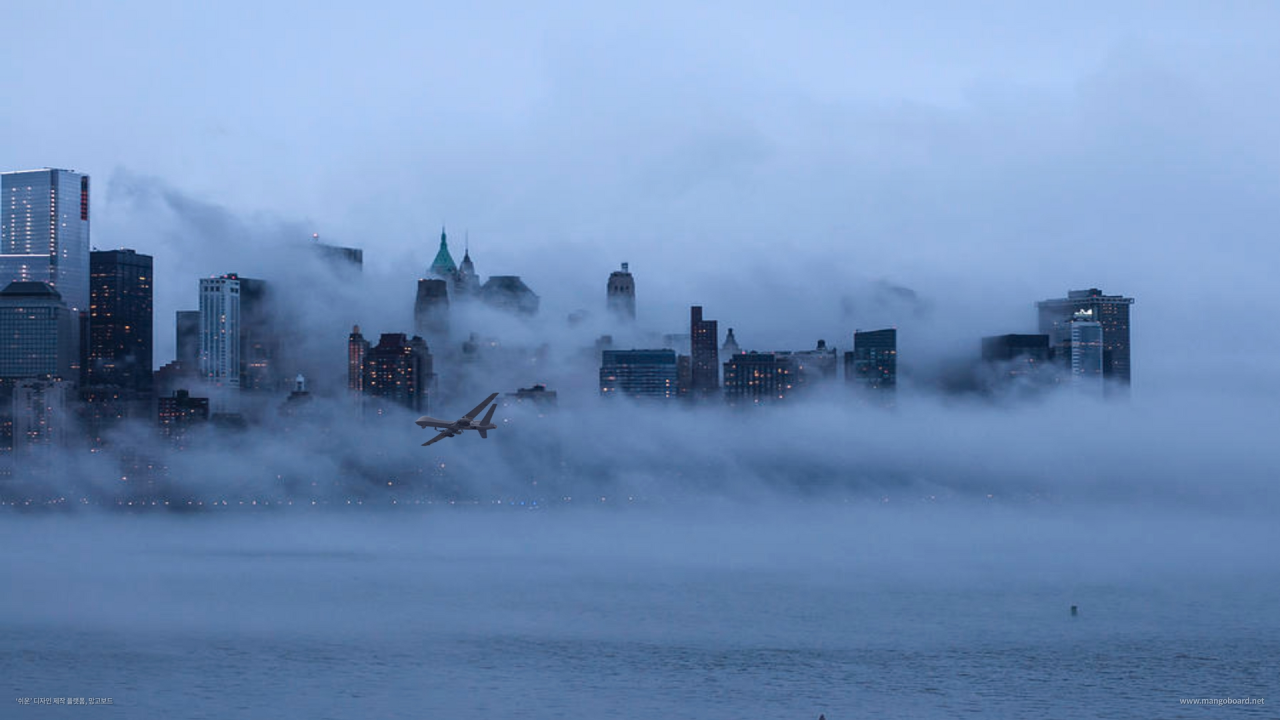military drone: (416, 392, 499, 446)
